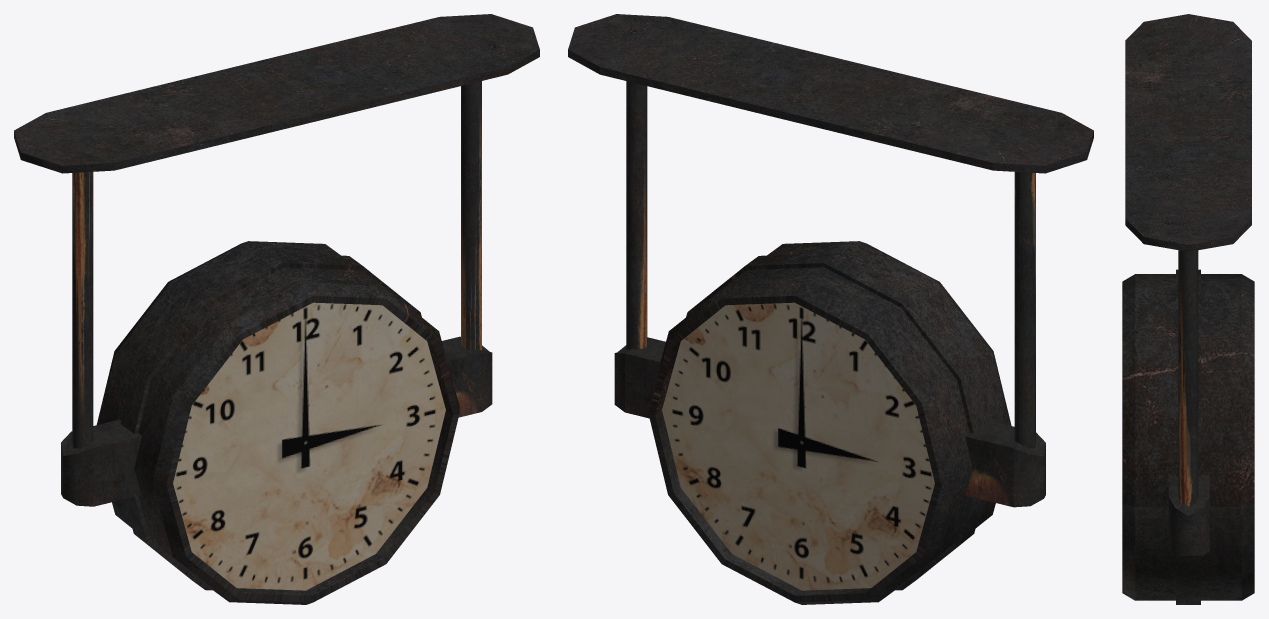
File: clock02.obj
3 renders of one model, left to right at view 1: azimuth 30°, elevation 25°; view 2: azimuth 150°, elevation 25°; view 3: azimuth 270°, elevation 25°, orthographic. The views are drawn at different scales.
Parts seen in each view (by area): view 1: ClockBody, ClockBase, ClockPole02, ClockPole01; view 2: ClockBody, ClockBase, ClockPole02, ClockPole01; view 3: ClockBody, ClockBase, ClockPole01.
Part boxes in pixels (<box>): ClockBody: <box>96,241,459,604</box>; ClockBase: <box>14,14,539,173</box>; ClockPole02: <box>61,172,141,506</box>; ClockPole01: <box>442,81,492,417</box>; ClockBody: <box>648,241,1011,604</box>; ClockBase: <box>568,14,1093,173</box>; ClockPole02: <box>965,172,1045,507</box>; ClockPole01: <box>614,81,665,418</box>; ClockBody: <box>1122,269,1254,604</box>; ClockBase: <box>1125,14,1251,251</box>; ClockPole01: <box>1168,250,1209,555</box>.
Size of the model in its own units: 1.62 by 1.51 by 0.3935.
